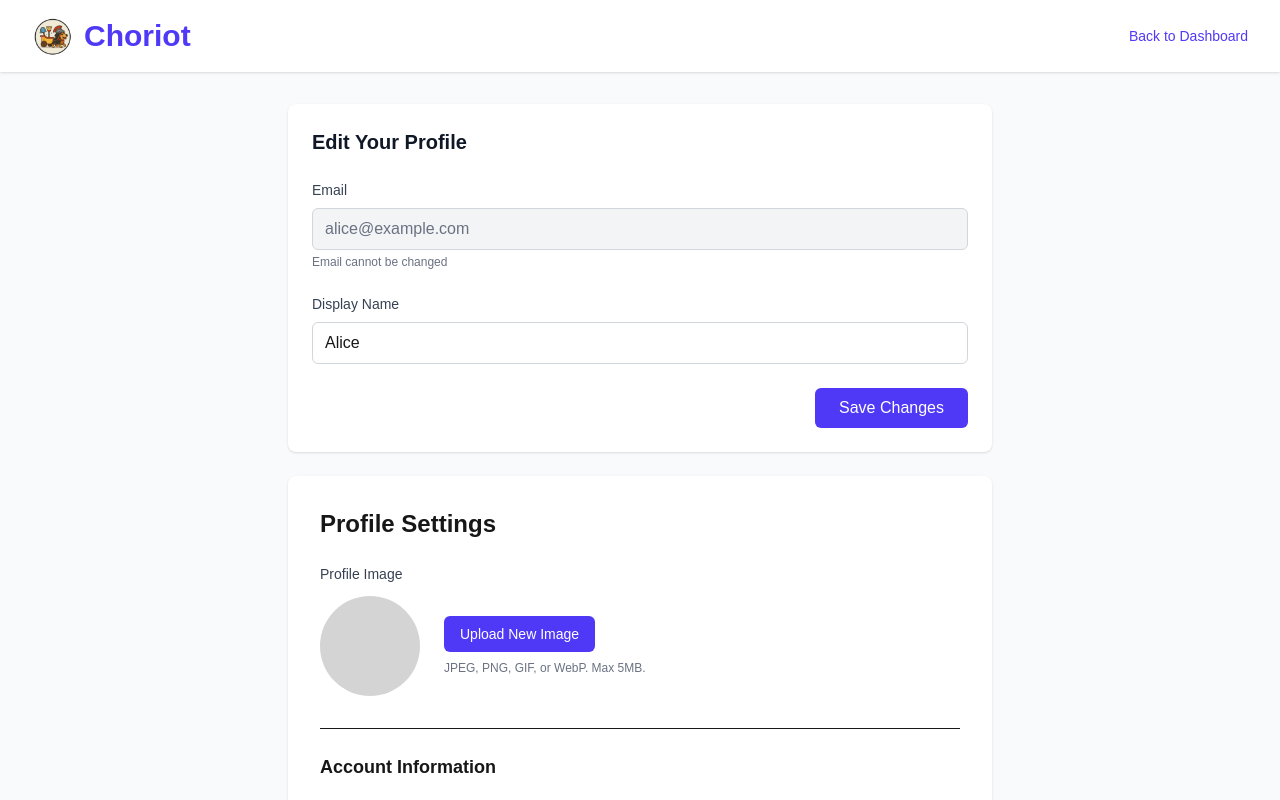
Test: ProfileClient › should show error message when update fails
This screenshot has width=1280, height=800.
Step 1. Replace the text in the field labelled "Display Name" with "Alice Smith" → (640, 343), box left=312, top=322, right=968, bottom=364
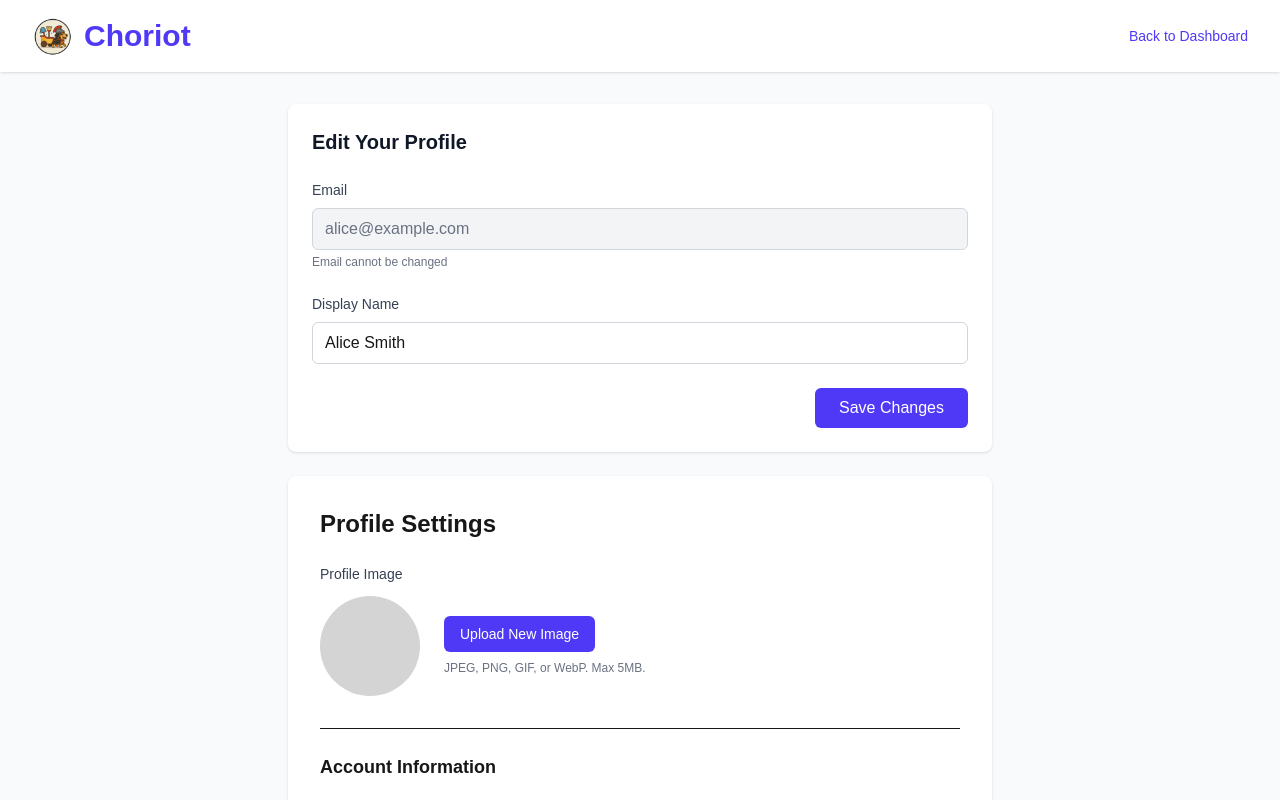
Step 2. Click the button "Save Changes" → (892, 408), box left=815, top=388, right=968, bottom=428
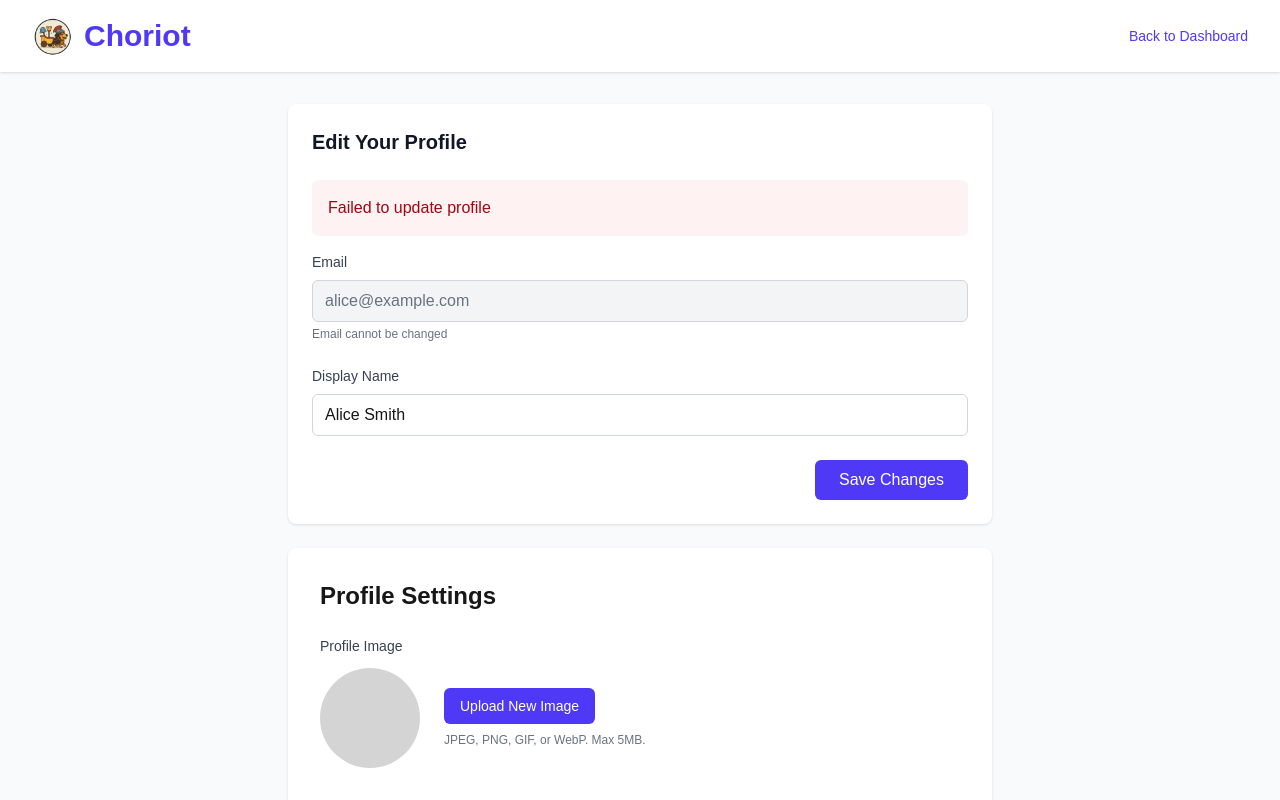
Now the text "Failed to update profile" is shown, box left=312, top=180, right=968, bottom=236
